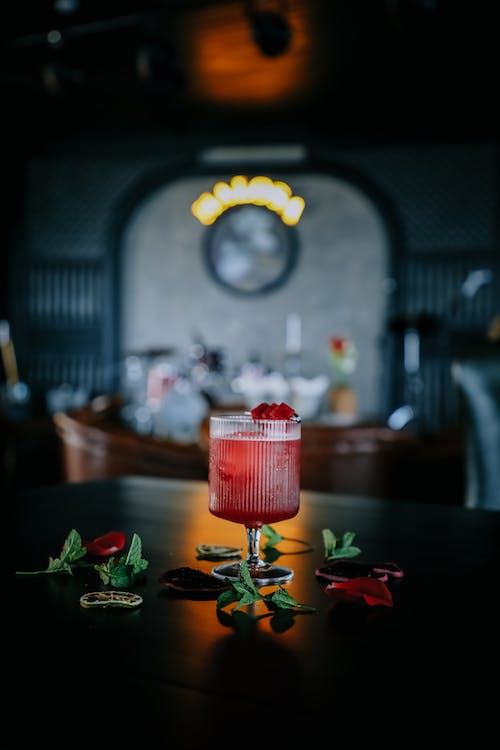alcohol: (205, 413, 303, 584)
